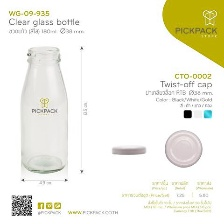bottle: (10, 41, 73, 177)
